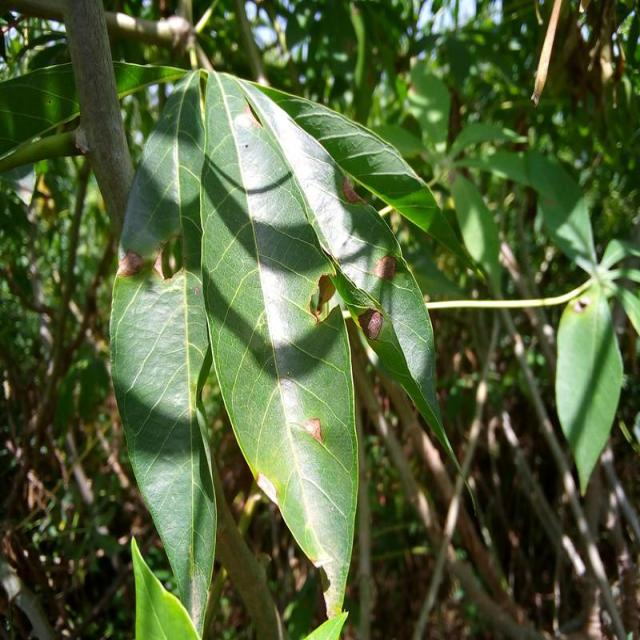cassava leaf: (110, 66, 468, 635), (200, 68, 363, 624), (109, 258, 218, 637), (554, 285, 625, 496)
